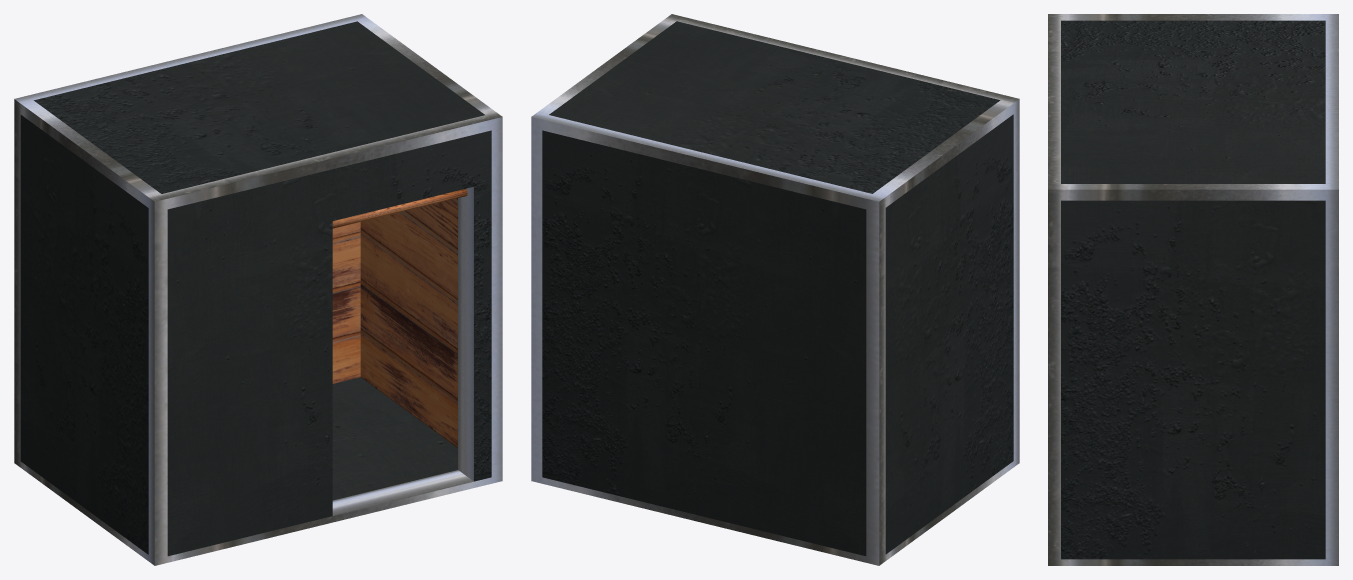
Rendered from FotoBooth.fbx.
The picture shows the model from 3 angles, left to right: view 1: azimuth 30°, elevation 25°; view 2: azimuth 150°, elevation 25°; view 3: azimuth 270°, elevation 25°; orthographic projection. The views are drawn at different scales.
Parts seen in each view (by area): view 1: FotoBox; view 2: FotoBox; view 3: FotoBox.
Part boxes in pixels (x1=…): FotoBox: x1=14, y1=14, x2=502, y2=565; FotoBox: x1=531, y1=14, x2=1019, y2=565; FotoBox: x1=1048, y1=14, x2=1338, y2=565.
Bounding box in the file's own units: 2.76 × 1.93 × 2.76.
